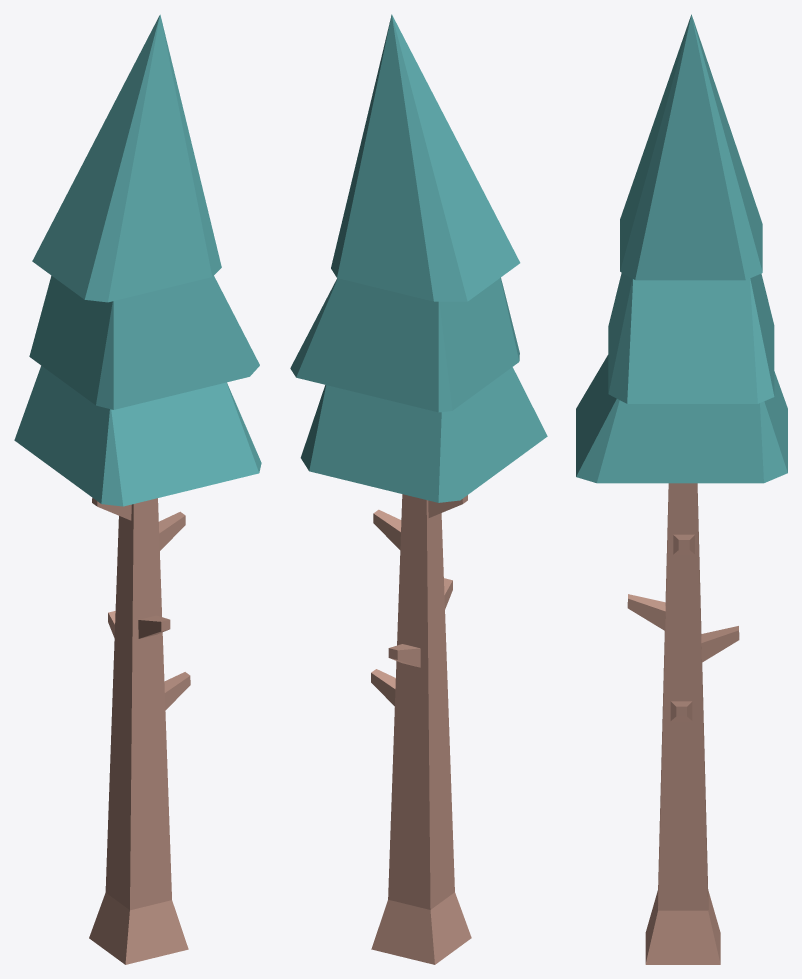
Rendered from tree_pineTallB_detailed.glb.
3 renders of one model, left to right at view 1: azimuth 30°, elevation 25°; view 2: azimuth 150°, elevation 25°; view 3: azimuth 270°, elevation 25°, orthographic. The views are drawn at different scales.
Visible parts, largest first — view 1: tree_pineTallB_detailed; view 2: tree_pineTallB_detailed; view 3: tree_pineTallB_detailed.
Part boxes in pixels (x1=…): tree_pineTallB_detailed: x1=14, y1=14, x2=261, y2=964; tree_pineTallB_detailed: x1=290, y1=14, x2=547, y2=964; tree_pineTallB_detailed: x1=576, y1=14, x2=787, y2=964.
Bounding box in the file's own units: 0.3863 × 1.93 × 0.392.
